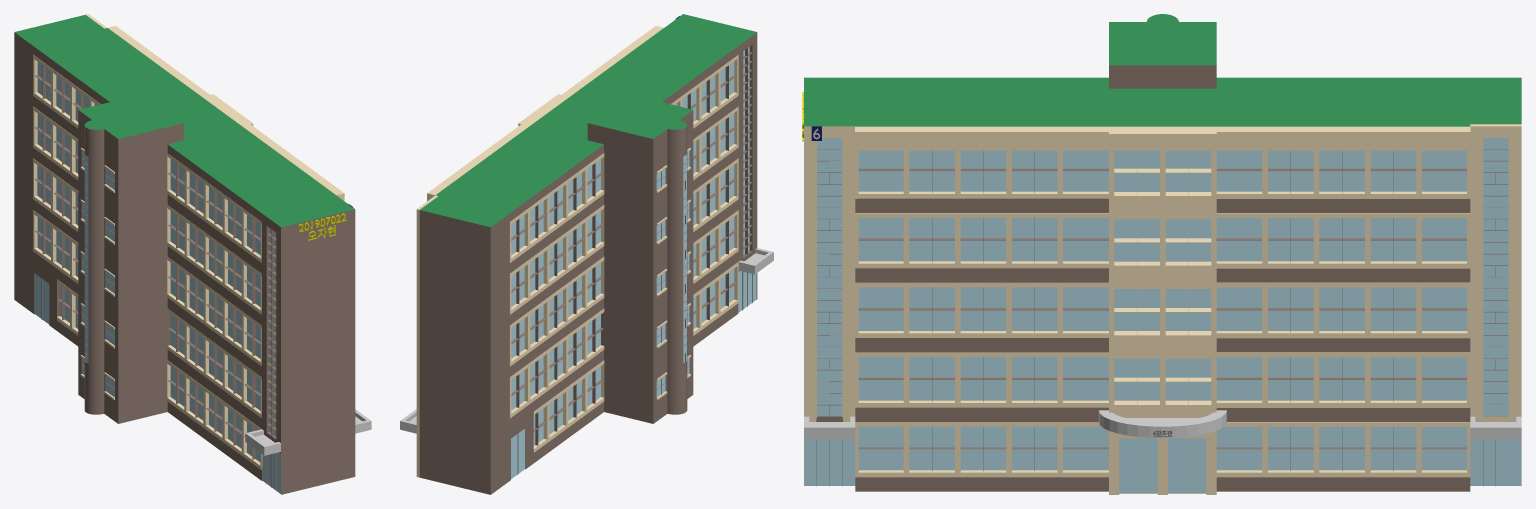
The model's file is 6building_4.glb.
The picture shows the model from 3 angles, left to right: view 1: azimuth 30°, elevation 25°; view 2: azimuth 150°, elevation 25°; view 3: azimuth 270°, elevation 25°; orthographic projection. The views are drawn at different scales.
Visible parts, largest first — view 1: main, right-side-building, 5,6사이건물, 후면창문, left-side-building, Cube.042, Cube.001, Cube.056, Cube.057, Cube.058, Cube.059, Cube.044 (+6 smaller); view 2: main, left-side-building, 5,6사이건물, 후면창문, Cube.042, right-side-building, Cube.001, Cube.059, Cube.044, Cube.058, Cube.056, Cube.057 (+5 smaller); view 3: 정면창문, main, Cube.036, center, Cube.001, left-side-building, right-side-building, Cube.078, Cube.025, Cube.047, Cube.049, Cube.051 (+11 smaller).
Boxes of the visible parts, box(x1,y1,x2,y2) form: main: box(33, 28, 335, 480); right-side-building: box(262, 195, 355, 494); 5,6사이건물: box(78, 106, 166, 423); 후면창문: box(37, 62, 260, 461); left-side-building: box(14, 14, 106, 313); Cube.042: box(33, 54, 100, 335); Cube.001: box(108, 26, 344, 200); Cube.056: box(167, 309, 261, 418); Cube.057: box(167, 257, 261, 366); Cube.058: box(167, 205, 261, 314); Cube.059: box(167, 153, 261, 262); Cube.044: box(167, 360, 262, 470); main: box(436, 28, 738, 480); left-side-building: box(416, 195, 509, 494); 5,6사이건물: box(607, 106, 693, 423); 후면창문: box(511, 61, 734, 445); Cube.042: box(509, 153, 604, 452); right-side-building: box(664, 14, 757, 309); Cube.001: box(427, 26, 663, 201); Cube.059: box(671, 55, 738, 128); Cube.044: box(693, 262, 738, 335); Cube.058: box(693, 106, 738, 180); Cube.056: box(693, 210, 738, 283); Cube.057: box(693, 158, 738, 231); 정면창문: box(858, 150, 1467, 470); main: box(855, 24, 1470, 491); Cube.036: box(1216, 143, 1470, 477); center: box(1109, 129, 1216, 493); Cube.001: box(855, 126, 1470, 150); left-side-building: box(1470, 77, 1521, 485); right-side-building: box(804, 77, 855, 485); Cube.078: box(1483, 138, 1508, 369); Cube.025: box(817, 138, 842, 369); Cube.047: box(855, 352, 1108, 407); Cube.049: box(855, 282, 1108, 337); Cube.051: box(855, 213, 1108, 268).
Size of the model in its own units: 103 by 165 by 281.
